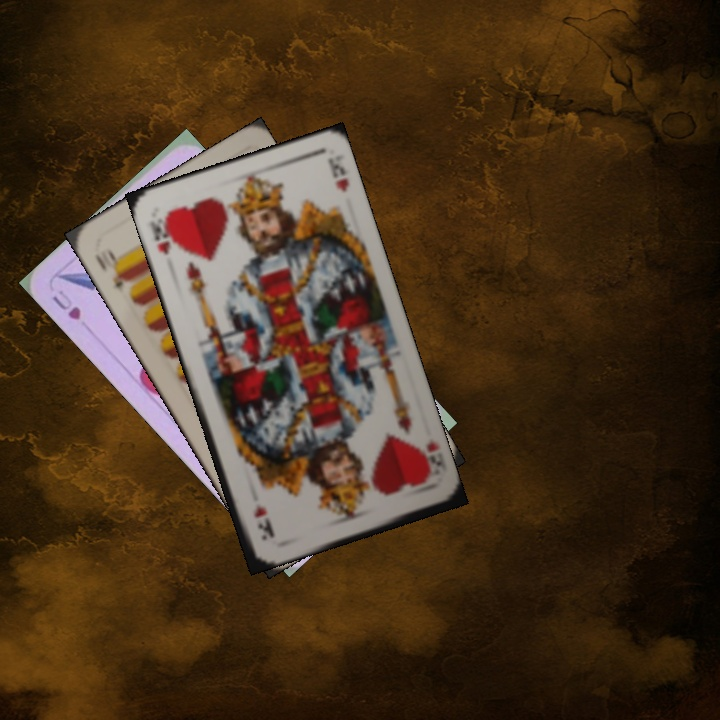E10: (90, 243, 133, 291)
HK: (412, 435, 445, 484), (145, 213, 177, 257)
HU: (48, 286, 84, 323)
